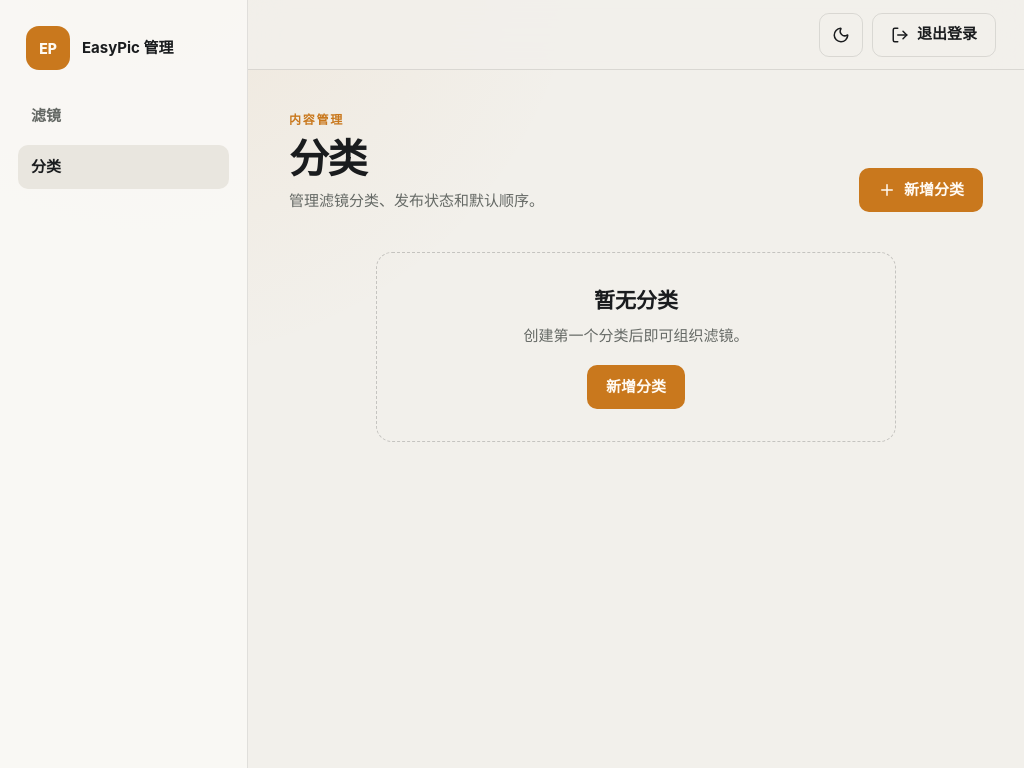
Test: admin application routing › keeps the shell visible and reports a generic alert after logout fails
Click the button "退出登录" at (934, 34), box [872,12,996,56]
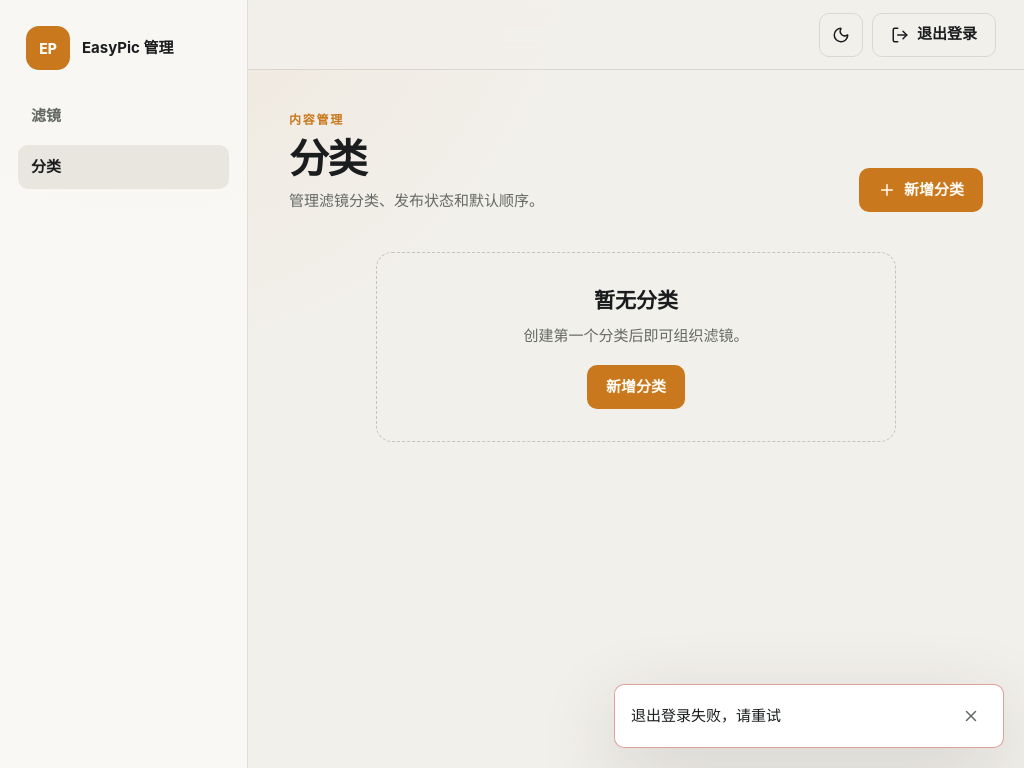
Expected: the heading "分类" is shown, [289,134,366,183]
Expected: the message reads "退出登录失败，请重试", [631,706,781,725]
